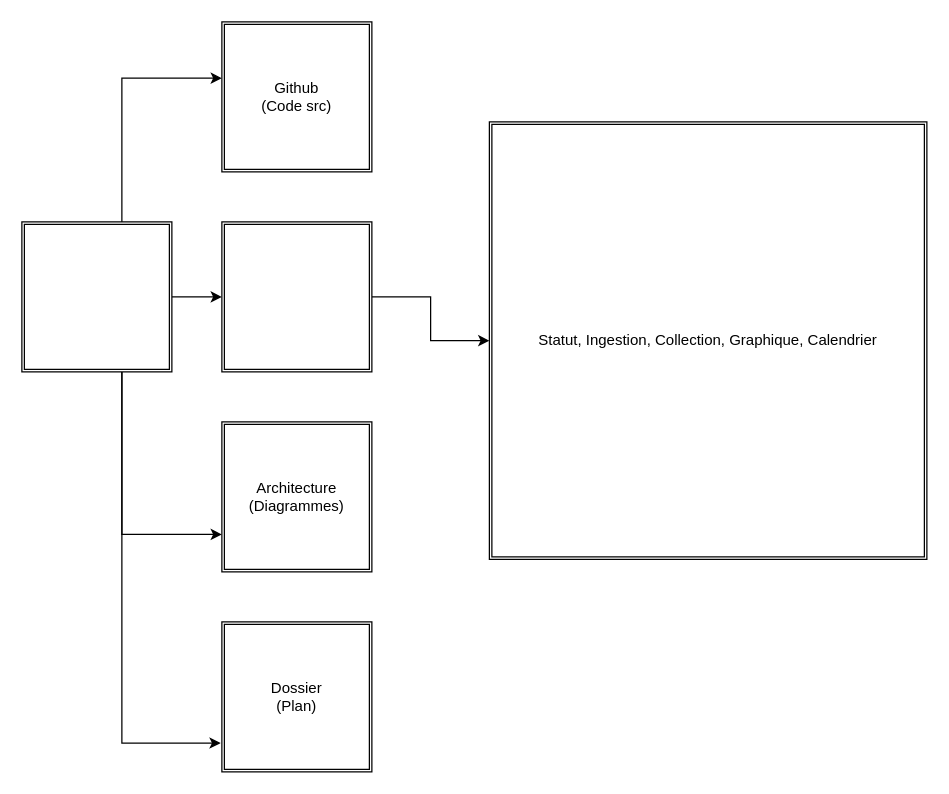
Some shapes in this 949 by 794 pixel diagram are drawn without their labels. Here are the shapes that lost their labels. From the top down, the centre of each, then its label:
the point at 96,296: Panel
the point at 296,296: App Login (App web)
